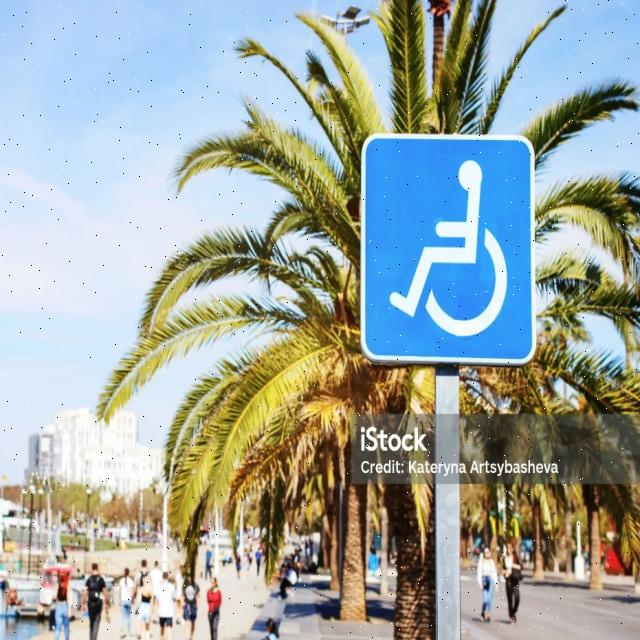symbol_of_access: (358, 127, 540, 370)
